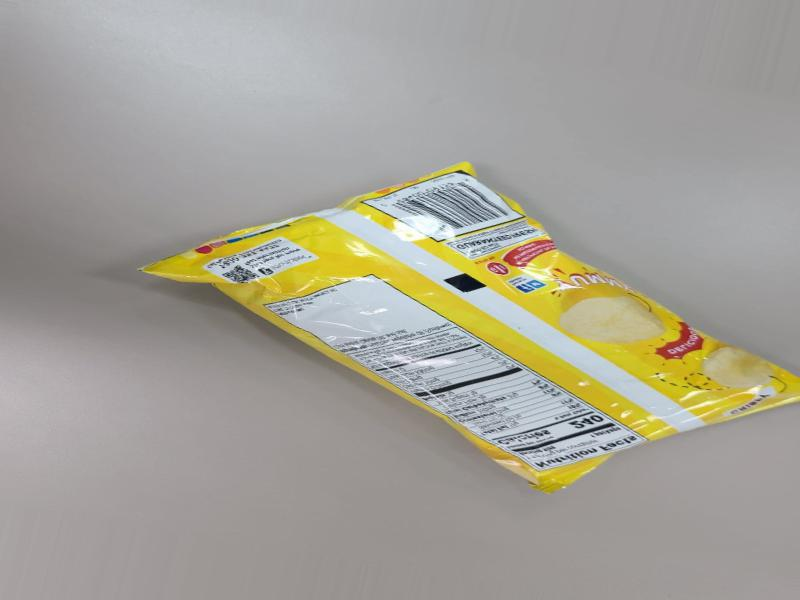lays: (207, 179, 771, 555)
